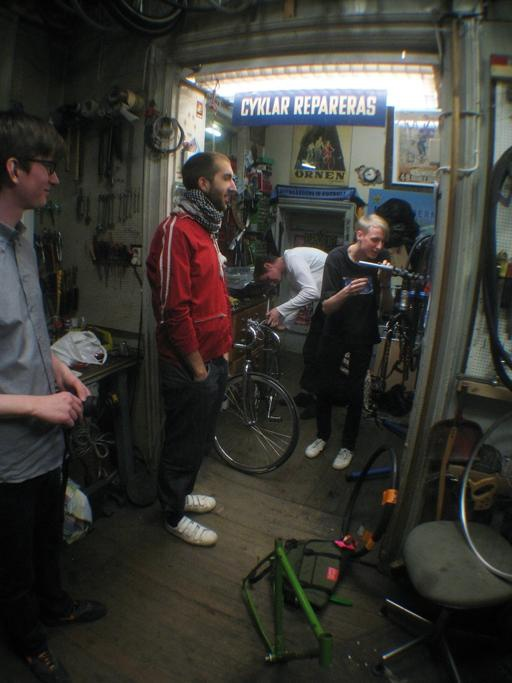non-vehicle: (213, 315, 300, 475), (362, 232, 431, 428)
